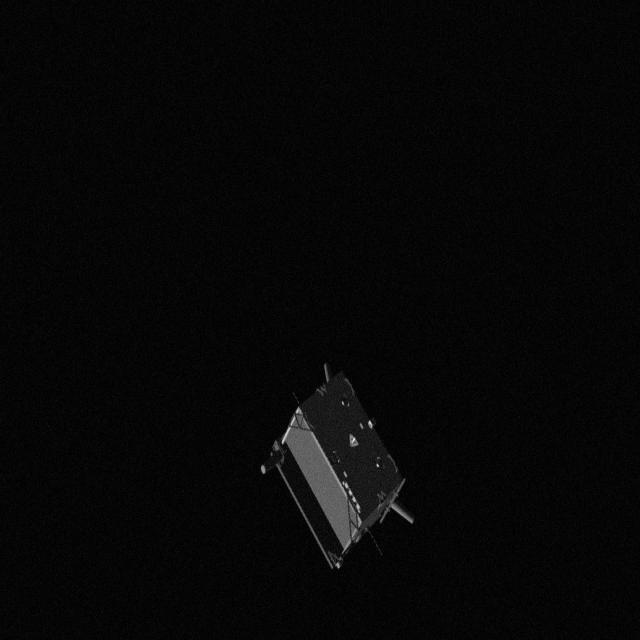medium_debris: (256, 351, 443, 571)
